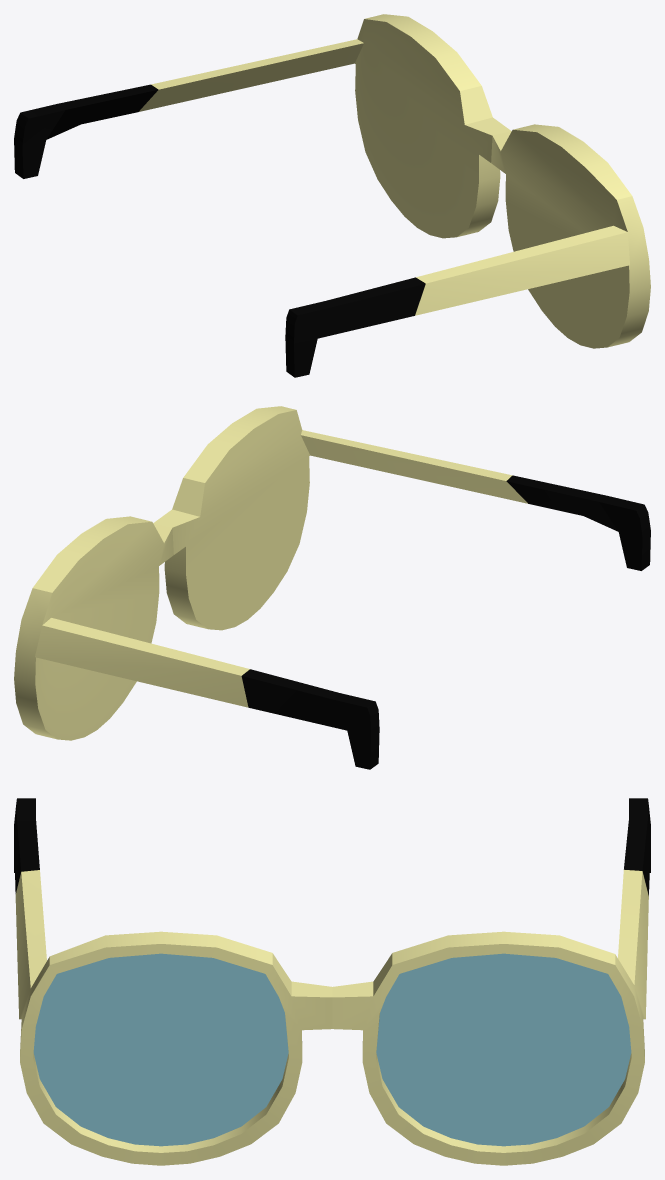
The model's file is gafas gaviota.fbx.
The picture shows the model from 3 angles, top to bottom: view 1: azimuth 30°, elevation 25°; view 2: azimuth 150°, elevation 25°; view 3: azimuth 270°, elevation 25°; orthographic projection. The views are drawn at different scales.
Visible parts, largest first — view 1: Cylinder.001; view 2: Cylinder.001; view 3: Cylinder.001.
Part boxes in pixels (x1=…): Cylinder.001: x1=14, y1=14, x2=650, y2=377; Cylinder.001: x1=14, y1=406, x2=650, y2=769; Cylinder.001: x1=14, y1=798, x2=650, y2=1165.
Bounding box in the file's own units: 68.91 × 35.16 × 92.59.
